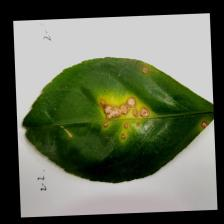canker: (77, 77, 156, 159)
